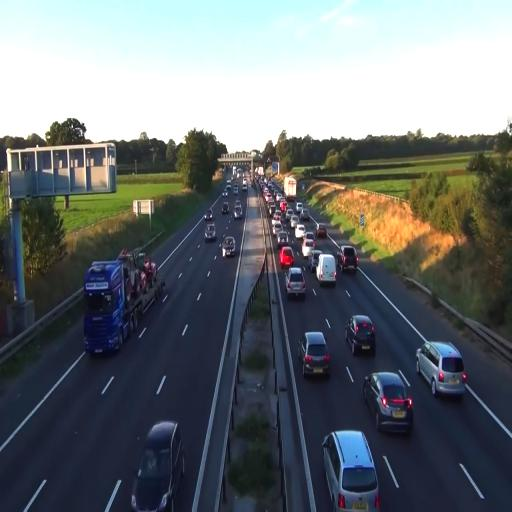vehicle: (83, 258, 139, 357), (131, 420, 185, 512), (321, 429, 380, 512), (362, 370, 414, 436), (416, 340, 466, 398), (301, 330, 331, 378), (345, 314, 376, 356), (316, 252, 337, 286), (286, 266, 306, 299), (339, 245, 358, 274), (279, 246, 294, 272), (222, 235, 237, 259), (204, 221, 216, 241)
